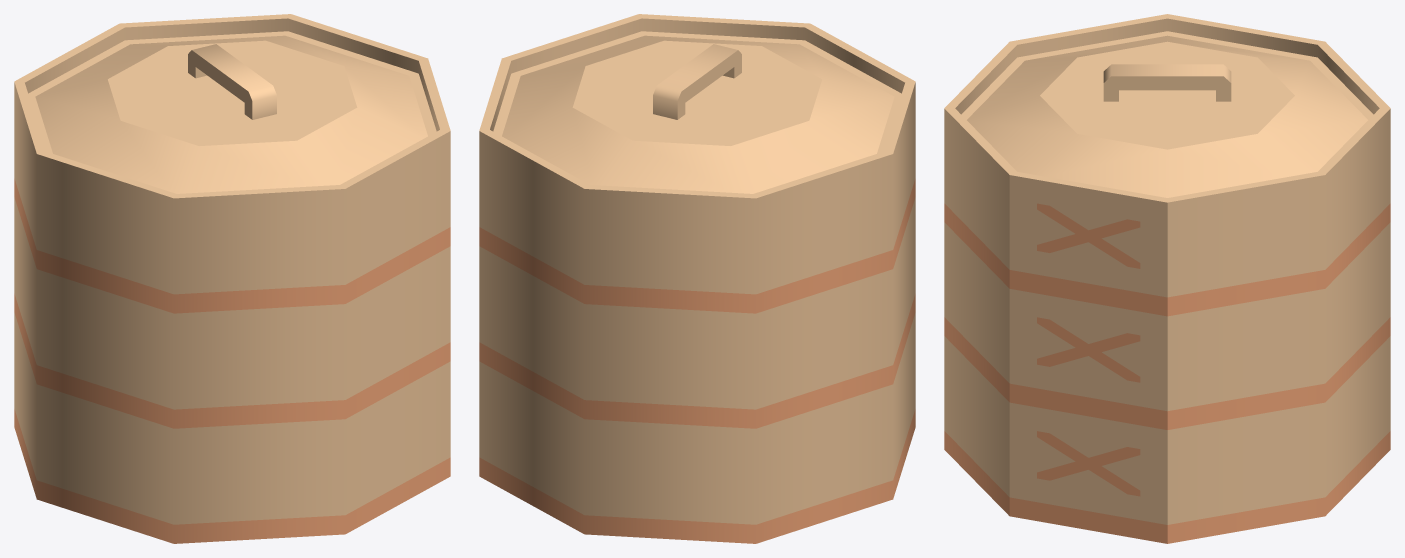
File: steamer.fbx
The picture shows the model from 3 angles, left to right: view 1: azimuth 30°, elevation 25°; view 2: azimuth 150°, elevation 25°; view 3: azimuth 270°, elevation 25°; orthographic projection.
Visible parts, largest first — view 1: layer (×3), lid; view 2: layer (×3), lid; view 3: layer (×3), lid.
Part boxes in pixels (x1,y1,x2,y2): layer (×3): [14, 14, 450, 543]; lid: [35, 35, 427, 193]; layer (×3): [479, 14, 915, 543]; lid: [502, 35, 894, 193]; layer (×3): [944, 14, 1390, 543]; lid: [967, 35, 1367, 197].
Bounding box in the file's own units: 6.4 × 6 × 6.4.
